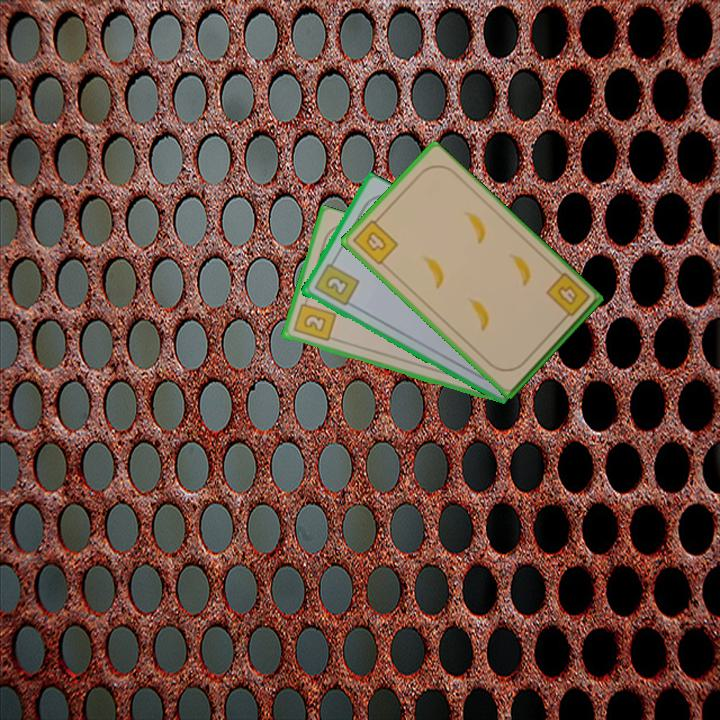2b: (310, 256, 361, 309), (290, 295, 338, 344)
4b: (349, 213, 401, 268), (542, 269, 593, 325)
